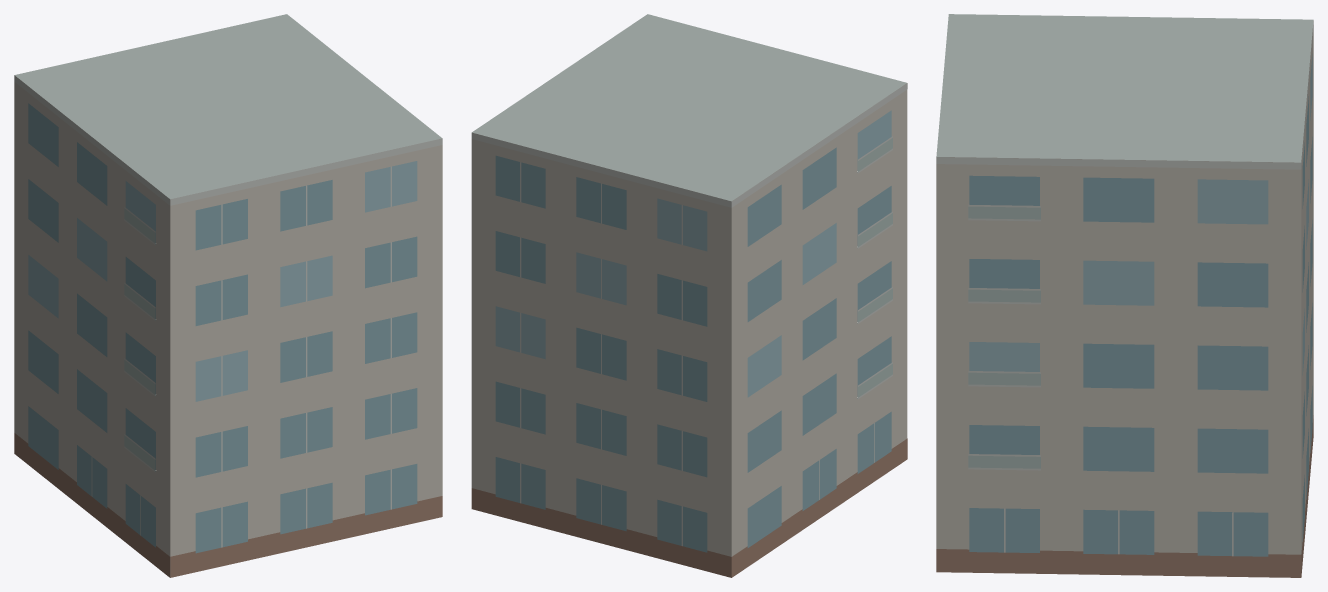
Rendered from survey-upis-32676399.glb.
The picture shows the model from 3 angles, left to right: view 1: azimuth 30°, elevation 25°; view 2: azimuth 150°, elevation 25°; view 3: azimuth 270°, elevation 25°; orthographic projection. The views are drawn at different scales.
Parts seen in each view (by area): view 1: survey-upis-32676399.tmp; view 2: survey-upis-32676399.tmp; view 3: survey-upis-32676399.tmp.
Boxes of the visible parts, x1,y1,x2,y2 form: survey-upis-32676399.tmp: (14,14,442,577); survey-upis-32676399.tmp: (471,14,907,577); survey-upis-32676399.tmp: (936,14,1313,577).
Bounding box in the file's own units: 10.83 × 14.1 × 11.62.
